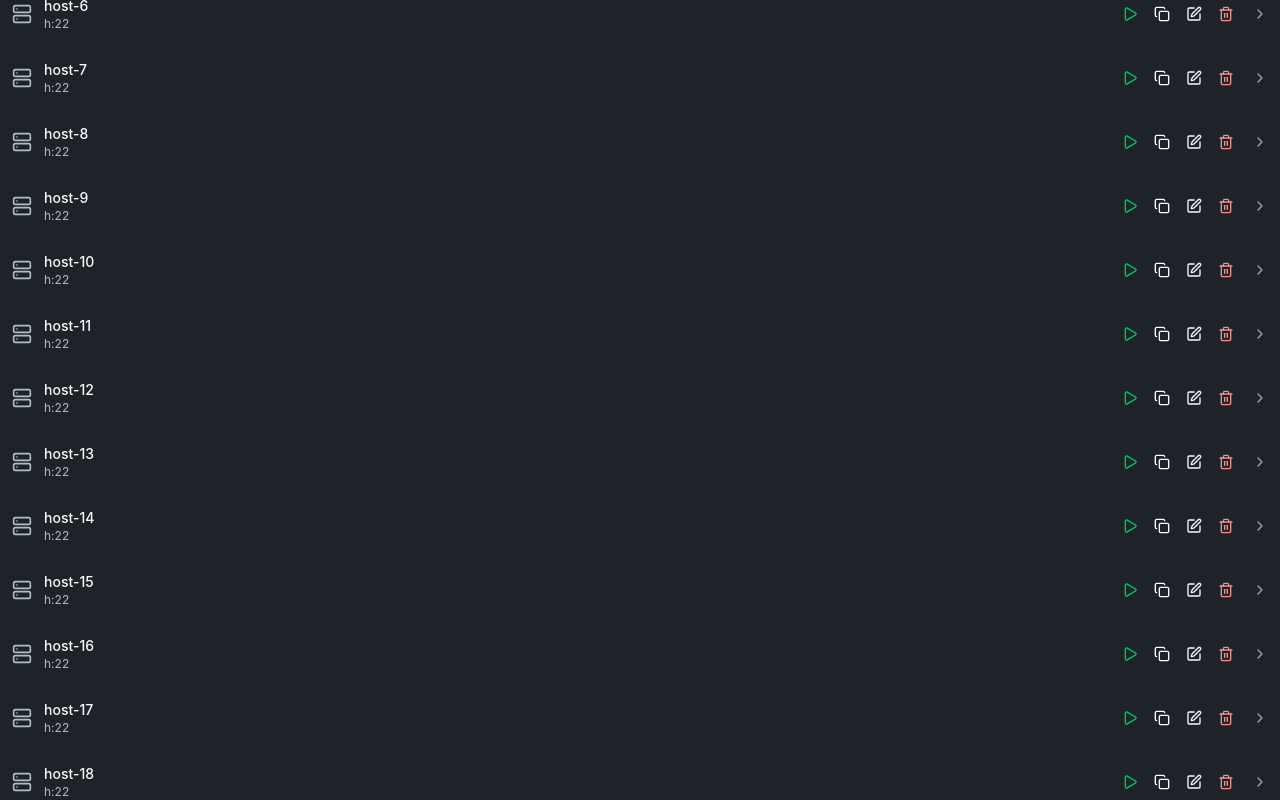
Test case: connection rows re-render only when they change › a right click draws no row again
The image size is (1280, 800).
(page scrolled)
Right-click the list item "host-10 h:22": coordinates (69, 262) x1=12 y1=253 x2=1268 y2=287
(page scrolled)
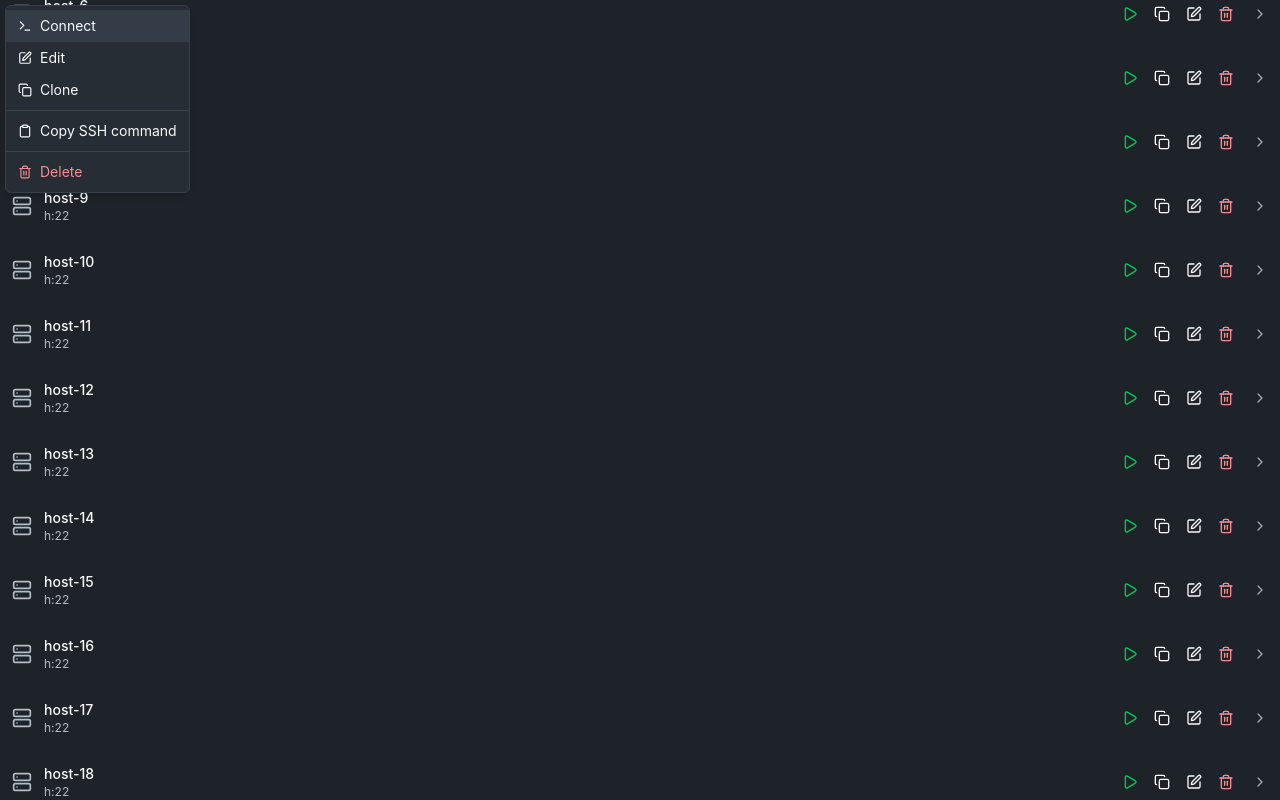
expect the menu is shown: met, box x1=5 y1=5 x2=190 y2=193
